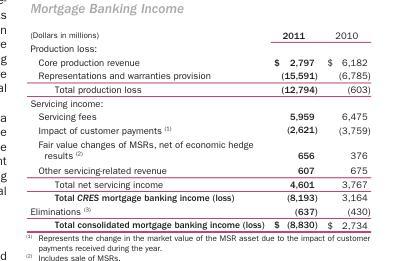table: (29, 29, 369, 229)
table column: (29, 29, 268, 229), (268, 29, 321, 229), (321, 29, 369, 229)
table column header: (29, 29, 369, 41)
table projected row header: (29, 95, 369, 109), (29, 41, 369, 54)
table row: (29, 136, 369, 162), (29, 54, 369, 68), (29, 68, 369, 82), (29, 95, 369, 109), (29, 122, 369, 136), (29, 162, 369, 176), (29, 176, 369, 190), (29, 190, 369, 204), (29, 41, 369, 54), (29, 82, 369, 95), (29, 109, 369, 122), (29, 204, 369, 217), (29, 29, 369, 41), (29, 217, 369, 229)
